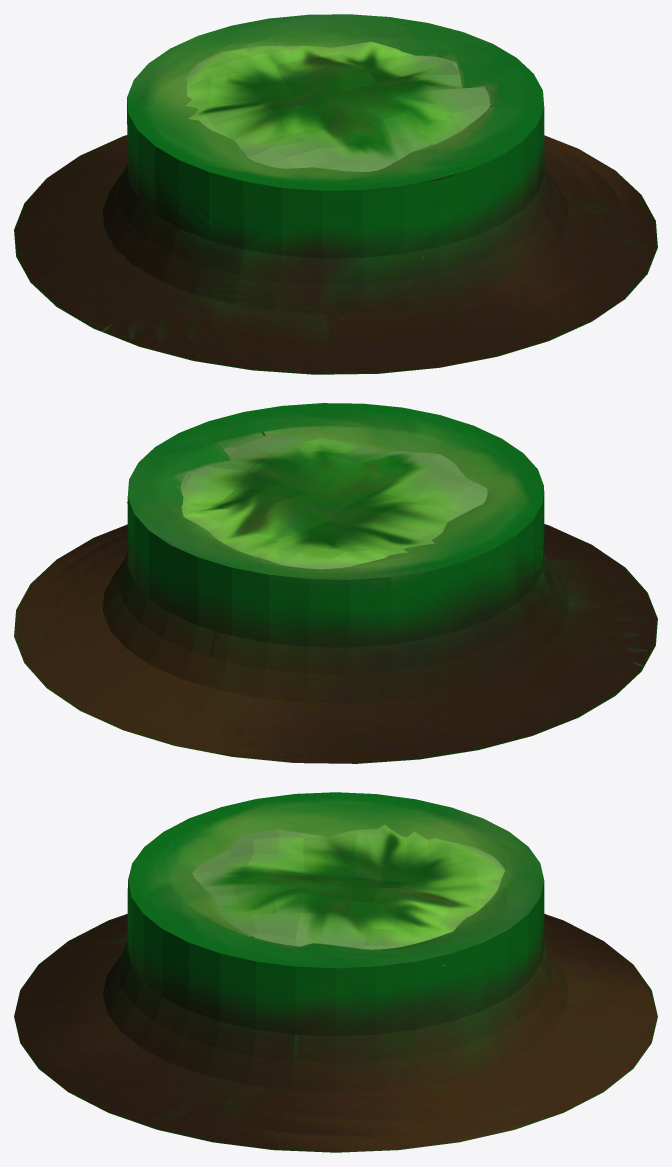
The model's file is bed_1.fbx.
3 renders of one model, top to bottom at view 1: azimuth 30°, elevation 25°; view 2: azimuth 150°, elevation 25°; view 3: azimuth 270°, elevation 25°, orthographic.
Parts seen in each view (by area): view 1: Цилиндр, Плоскость.001; view 2: Цилиндр, Плоскость.001; view 3: Цилиндр, Плоскость.001.
Boxes of the visible parts, left/top/right/bottom form: Цилиндр: left=14, top=14, right=657, bottom=374; Плоскость.001: left=185, top=41, right=490, bottom=171; Цилиндр: left=14, top=403, right=657, bottom=763; Плоскость.001: left=126, top=435, right=487, bottom=569; Цилиндр: left=14, top=792, right=657, bottom=1152; Плоскость.001: left=192, top=824, right=505, bottom=965.
Bounding box in the file's own units: 291 × 71.54 × 291.
